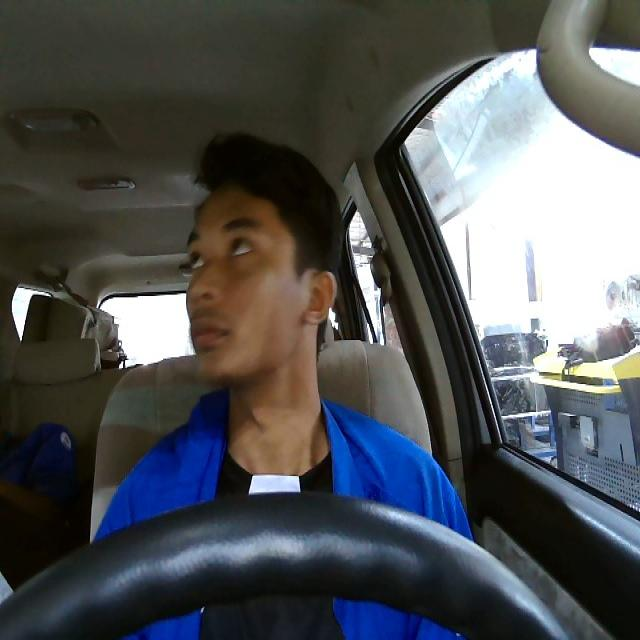seeing_left: (182, 180, 338, 389)
